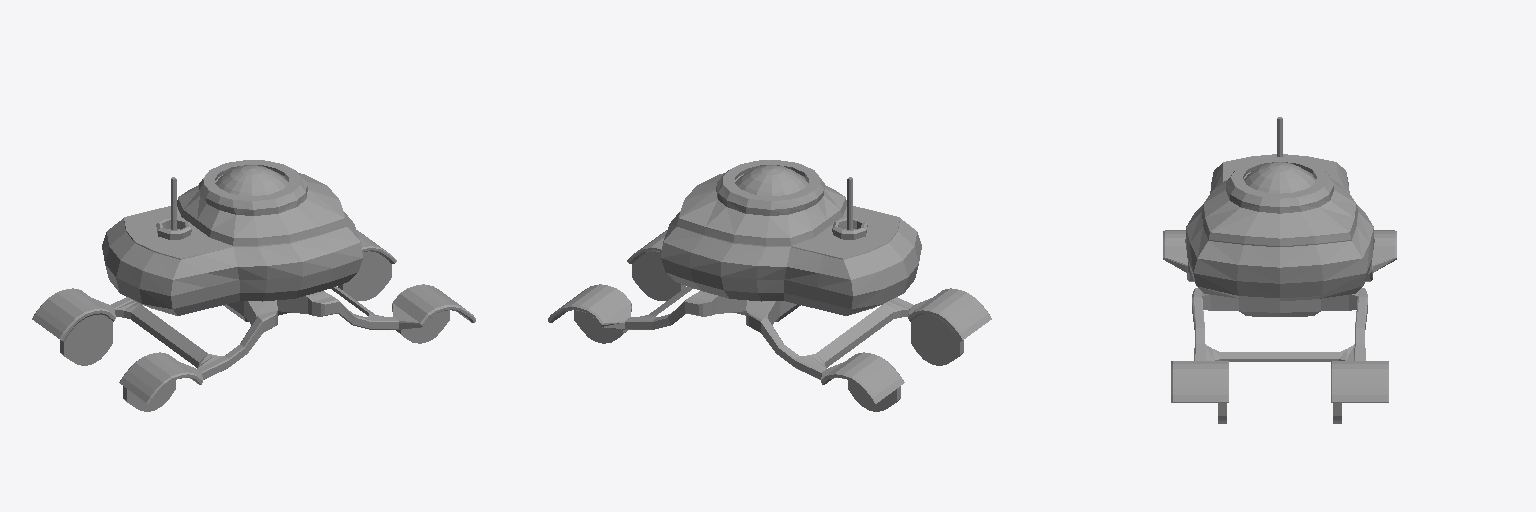
File: Tank.obj
3 views of the same model, side by side, from view 1: azimuth 30°, elevation 25°; view 2: azimuth 150°, elevation 25°; view 3: azimuth 270°, elevation 25° (orthographic).
Parts seen in each view (by area): view 1: Tank_Cube; view 2: Tank_Cube; view 3: Tank_Cube.
Part boxes in pixels (x1,y1,x2,y2): Tank_Cube: (32, 160, 475, 411); Tank_Cube: (548, 160, 991, 411); Tank_Cube: (1163, 117, 1396, 423).
Size of the model in its own units: 6.78 by 3.79 by 4.11.